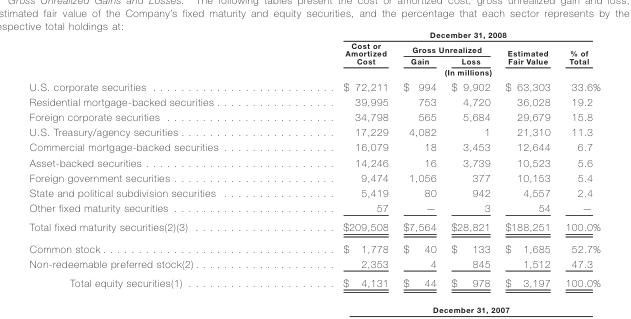table: (28, 29, 599, 287)
table column: (28, 29, 280, 287), (280, 29, 395, 287), (497, 29, 557, 287), (443, 29, 497, 287), (395, 29, 443, 287), (557, 29, 599, 287)
table column header: (28, 29, 599, 78)
table row: (28, 217, 599, 237), (28, 199, 599, 217), (28, 237, 599, 255), (28, 255, 599, 272), (28, 93, 599, 109), (28, 39, 599, 54), (28, 78, 599, 93), (28, 109, 599, 124), (28, 124, 599, 139), (28, 139, 599, 154), (28, 154, 599, 169), (28, 169, 599, 184), (28, 184, 599, 199), (28, 272, 599, 287), (28, 54, 599, 66), (28, 66, 599, 78), (28, 29, 599, 39)
table spanning cell: (280, 66, 557, 78), (280, 29, 599, 39), (280, 39, 395, 66), (557, 39, 599, 78), (497, 39, 557, 66), (395, 39, 497, 54)
